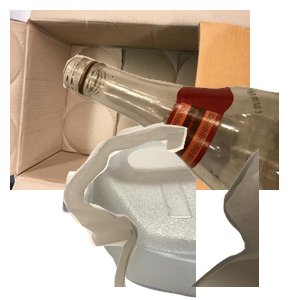cardboard: (10, 10, 250, 190)
glass: (60, 10, 300, 190)
plastic: (60, 120, 300, 300)
trash: (60, 120, 300, 300)
